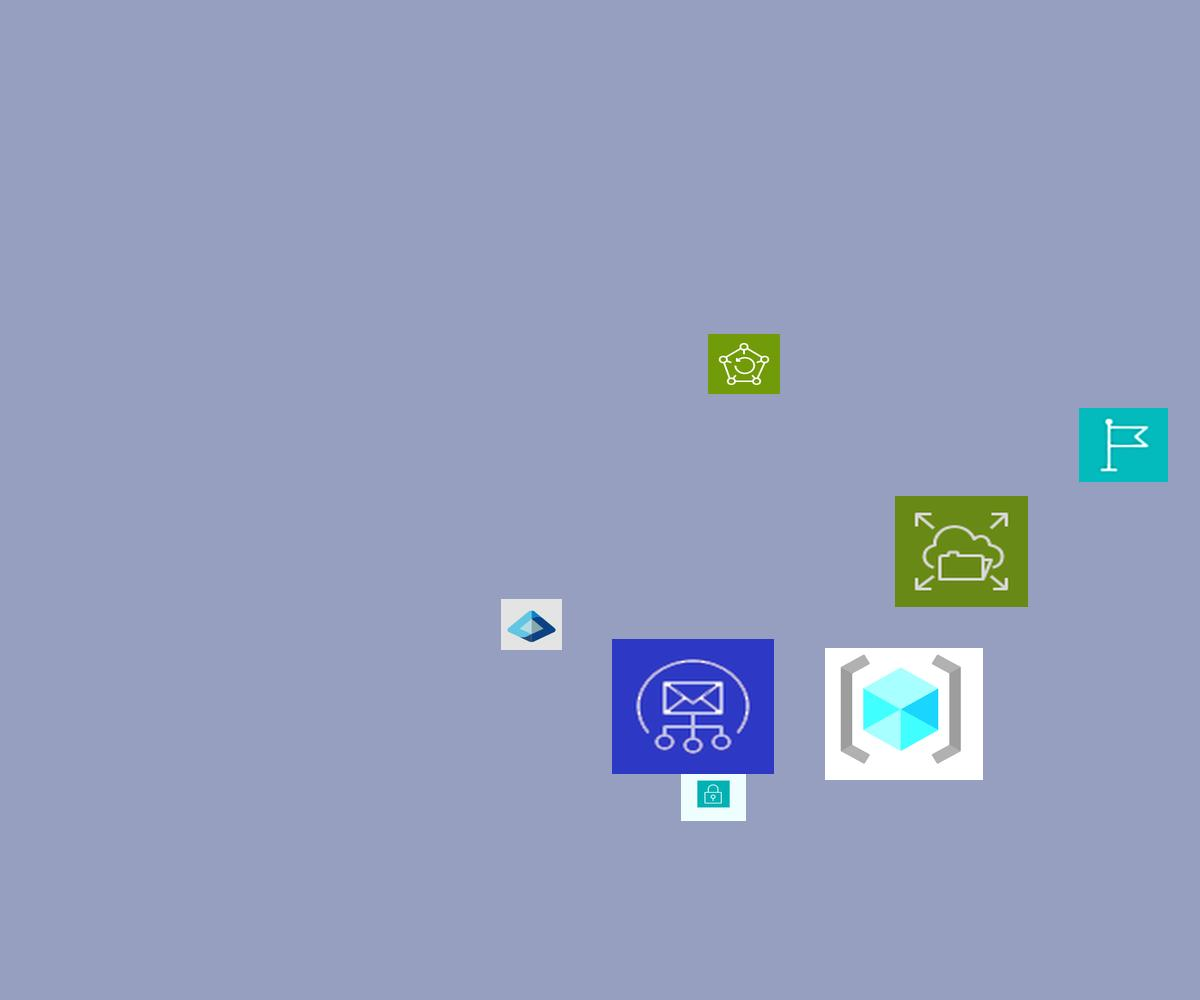AWS-Backup: (708, 334, 780, 394)
AWS-EFS: (895, 496, 1028, 607)
AWS-Private-subnet: (681, 767, 746, 821)
AWS-Region: (1079, 408, 1168, 482)
AWS-Simple-Email-Service: (612, 639, 774, 774)
Azure_microsoft_entra: (501, 599, 562, 650)
Azure_resource_group: (825, 648, 983, 780)
